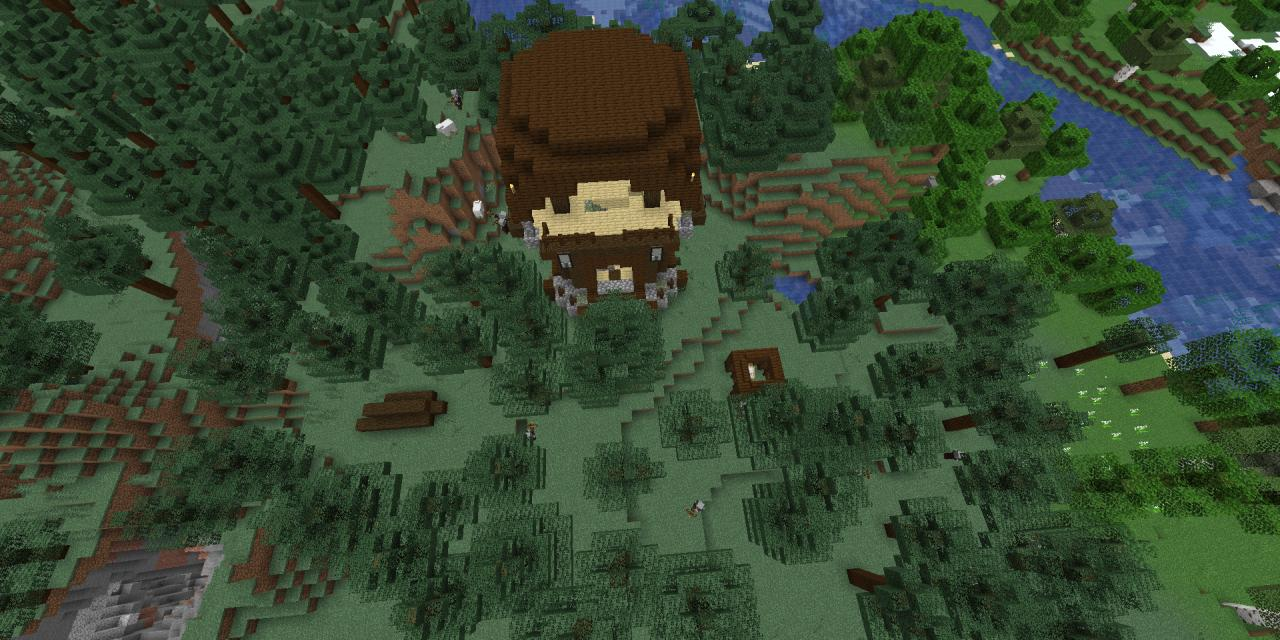pillager outpost: (487, 21, 727, 336)
